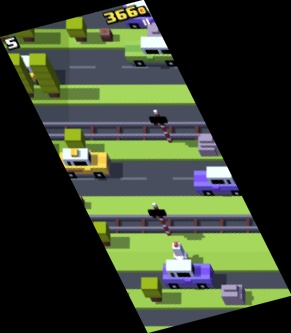car: (52, 148, 110, 180), (163, 258, 215, 291), (192, 166, 248, 196), (125, 37, 178, 67), (123, 1, 165, 30), (1, 54, 40, 84)
duck: (171, 241, 190, 265)
light off: (148, 109, 172, 143), (147, 203, 171, 237)
rail: (41, 122, 218, 142), (88, 214, 265, 233)
rock: (220, 283, 245, 306), (197, 135, 220, 158), (146, 22, 165, 40)
stump: (99, 27, 113, 42), (75, 194, 84, 207)
tree: (29, 54, 60, 99), (6, 53, 35, 101), (14, 12, 37, 41), (66, 14, 88, 43), (63, 129, 89, 153), (141, 277, 163, 303), (92, 222, 111, 246)
